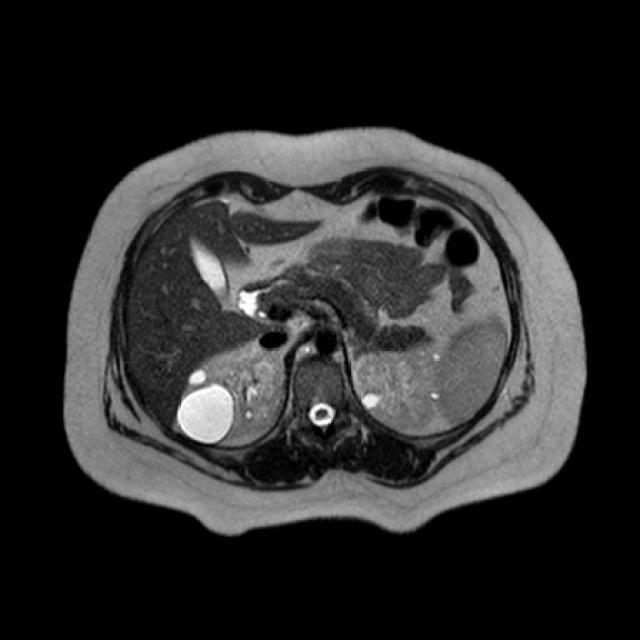sag: (177, 340, 286, 443)
sol: (354, 349, 442, 430)
